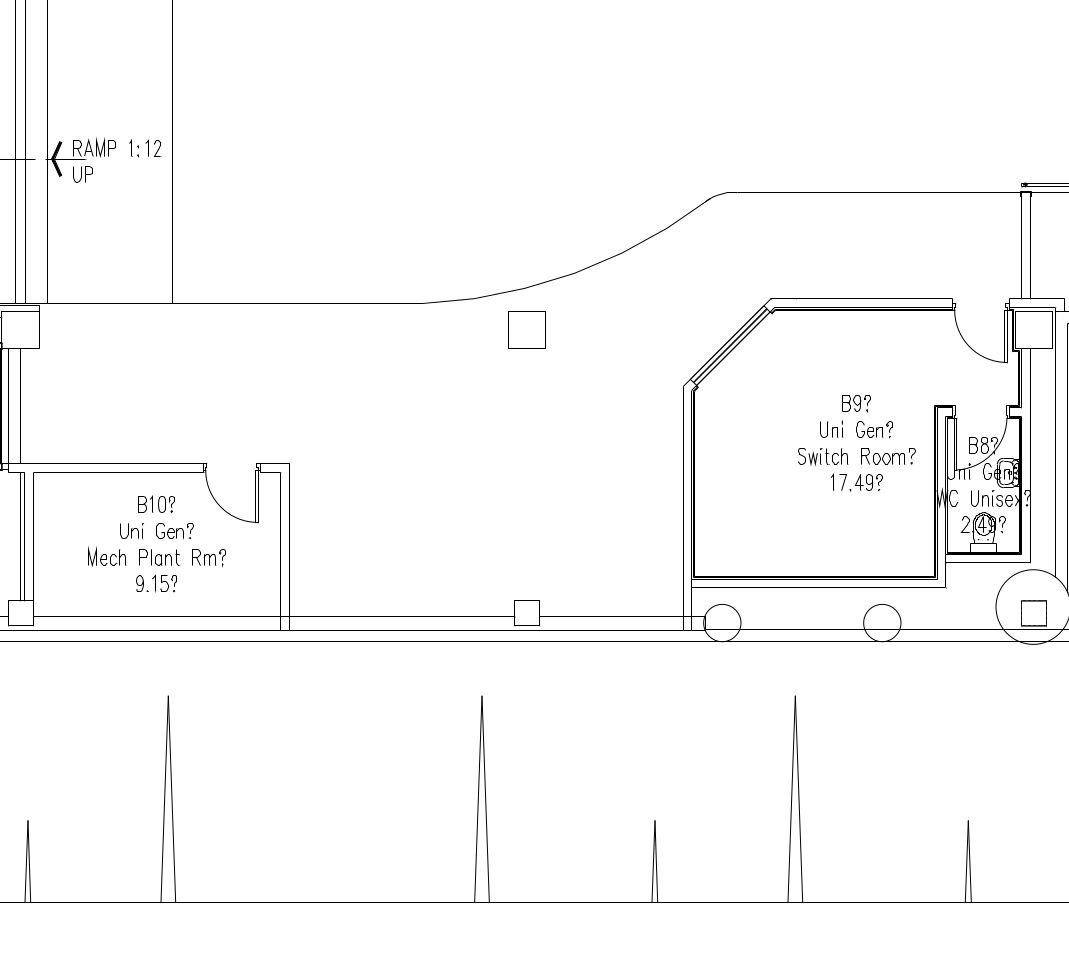door: (195, 471, 263, 533), (945, 308, 1013, 370)
